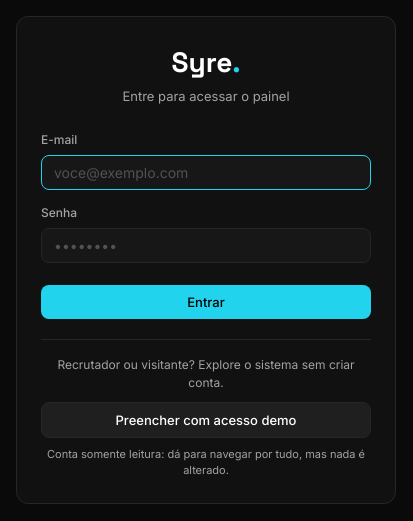
it: Login › desabilita o botão e mostra "Entrando..." durante a requisição
Type "gente@teste.com" into the field with placeholder "voce@exemplo.com" at point(206, 172), box [41, 155, 371, 190]
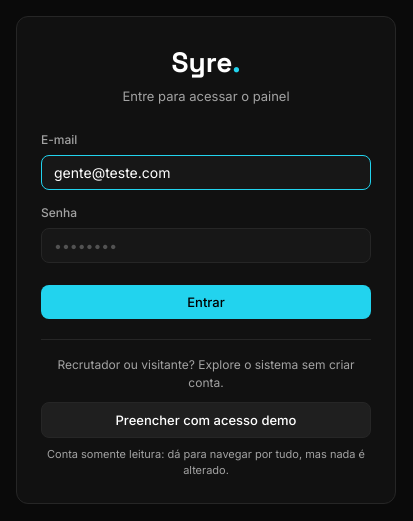
Type "senha" into the password field with placeholder "••••••••" at point(206, 245), box [41, 228, 371, 263]
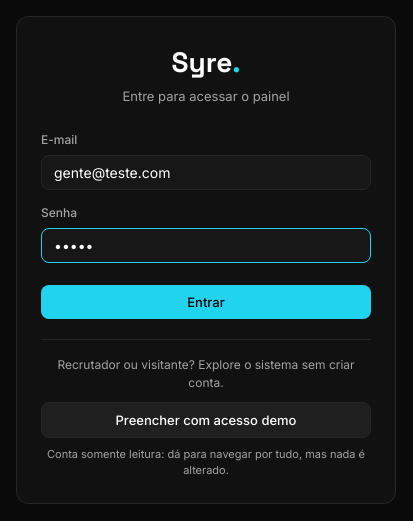
Click the button "Entrar" at point(206, 302), box [41, 285, 371, 319]
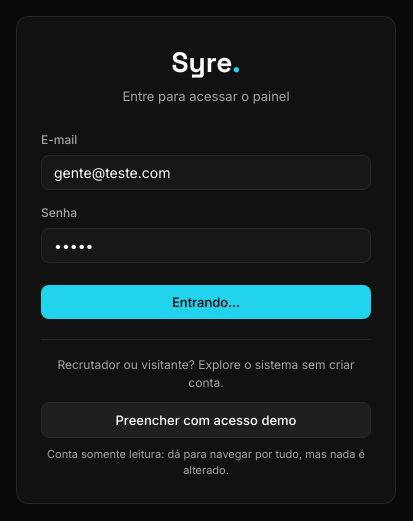
Check: the button "Entrando..." is disabled, box [41, 285, 371, 319]
